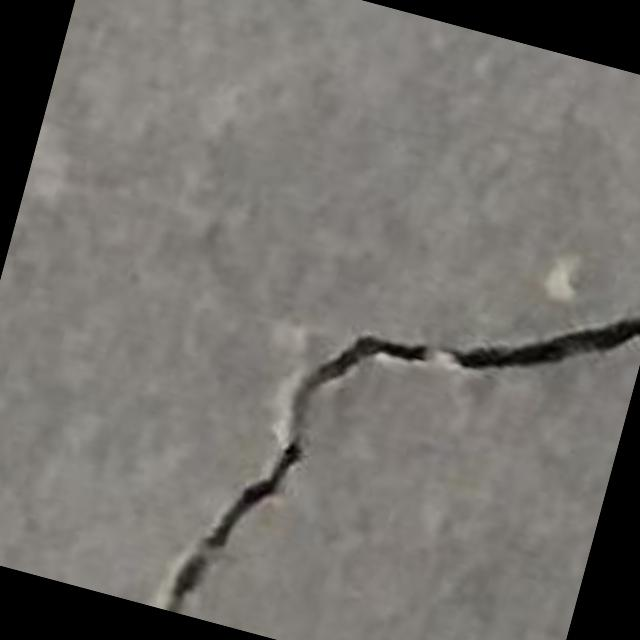crack: (160, 316, 639, 613)
